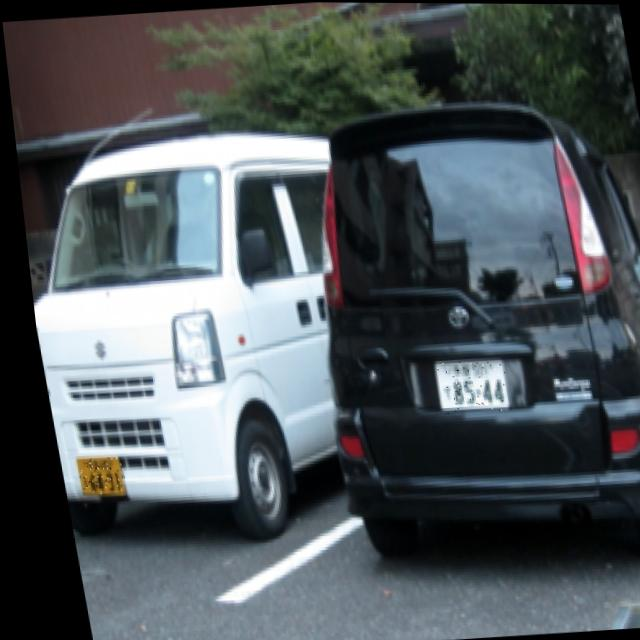license_plate: (425, 355, 502, 414), (65, 456, 115, 495)
